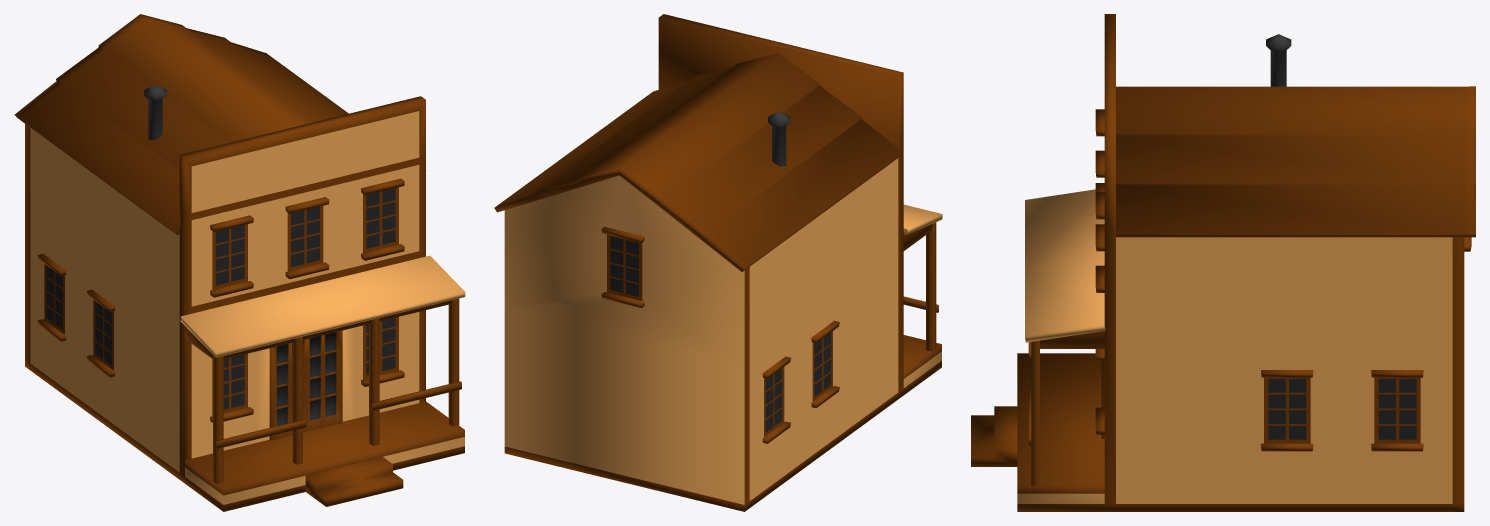
The model's file is Western_BankBege.fbx.
3 renders of one model, left to right at view 1: azimuth 30°, elevation 25°; view 2: azimuth 150°, elevation 25°; view 3: azimuth 270°, elevation 25°, orthographic. The views are drawn at different scales.
Parts seen in each view (by area): view 1: WesternBuilding_Bank_Bege; view 2: WesternBuilding_Bank_Bege; view 3: WesternBuilding_Bank_Bege.
Part boxes in pixels (x1=…): WesternBuilding_Bank_Bege: x1=14, y1=14, x2=465, y2=511; WesternBuilding_Bank_Bege: x1=494, y1=14, x2=942, y2=511; WesternBuilding_Bank_Bege: x1=971, y1=14, x2=1475, y2=511.
Bounding box in the file's own units: 565 × 707 × 870.
1 material, 1 textured.
